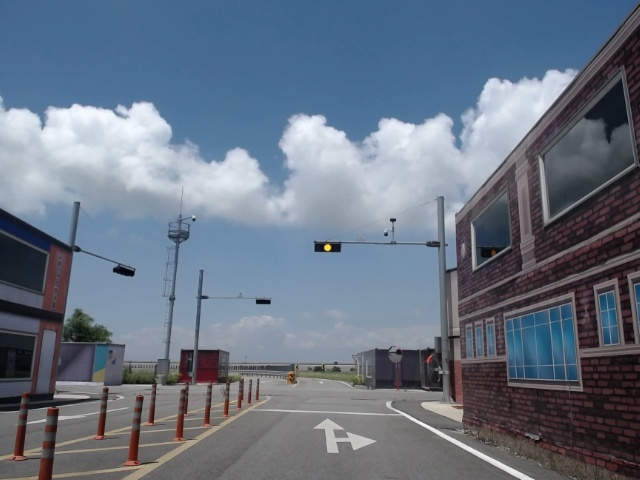orange_3: (313, 242, 342, 252)
